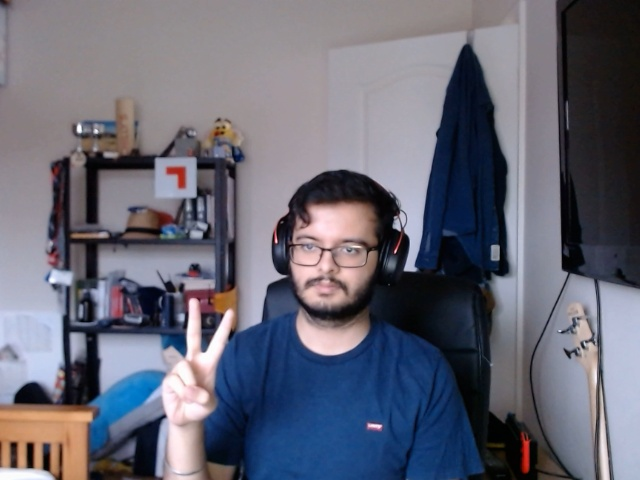Peace: (136, 284, 248, 441)
